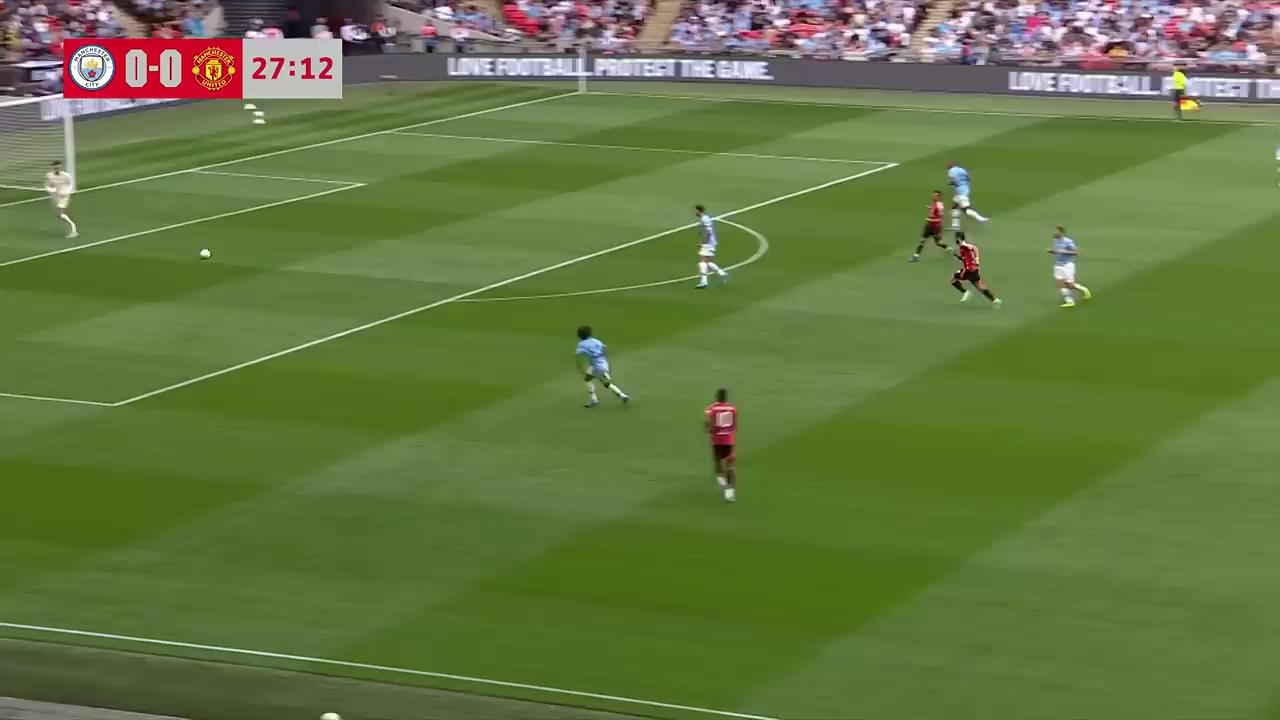ball: (197, 246, 213, 260)
player: (574, 324, 630, 408), (703, 386, 737, 502), (948, 233, 1002, 306), (947, 167, 994, 249), (1045, 224, 1091, 307), (909, 189, 950, 263), (945, 158, 988, 227), (693, 206, 728, 288), (44, 161, 78, 238)
referee: (1170, 68, 1199, 122)
